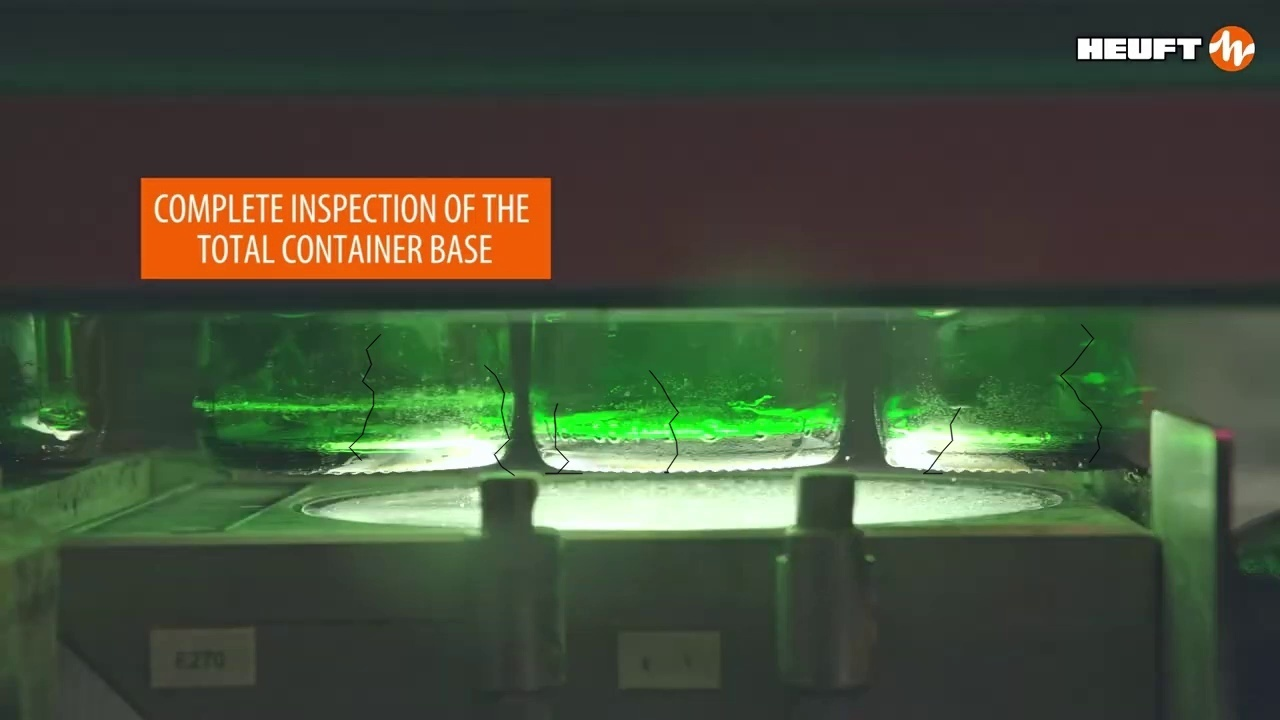bottle: (194, 319, 514, 484), (528, 309, 844, 473), (878, 306, 1145, 476)
crack: (349, 334, 380, 460), (545, 403, 582, 473), (923, 407, 960, 473)
